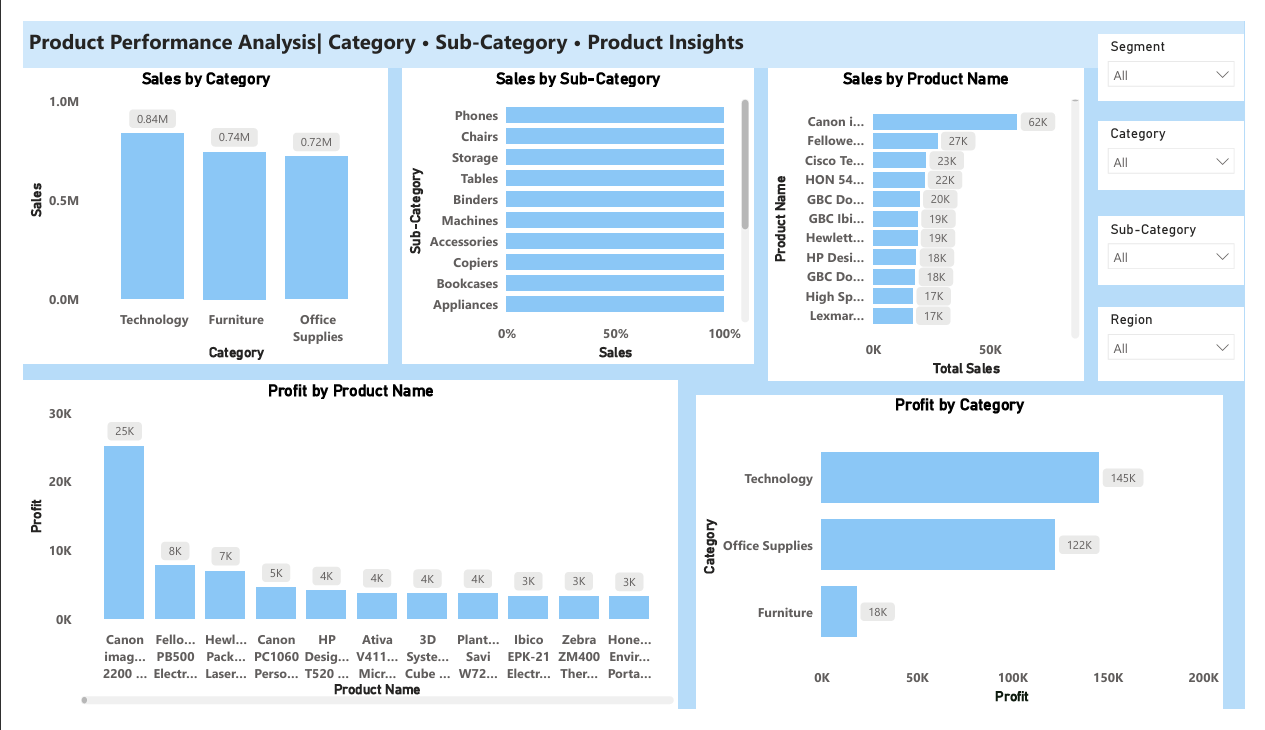

This screenshot's page, from the dashboard's own definition file:
{"tool":"powerbi","page":{"name":"Product Performance","canvas":[1280,720],"ordinal":1},"visuals":[{"type":"textbox","box":[0,0,1279.4,49.1],"z":0},{"type":"slicer","fields":{"Values":["SuperstoreSales.Category"]},"box":[1126.3,103.9,153.1,71.8],"z":1000},{"type":"slicer","fields":{"Values":["SuperstoreSales.Sub-Category"]},"box":[1126.3,204.1,153.1,71.8],"z":2000},{"type":"slicer","fields":{"Values":["SuperstoreSales.Region"]},"box":[1126.3,298.6,153.1,77.5],"z":3000},{"type":"slicer","fields":{"Values":["SuperstoreSales.Segment"]},"box":[1126.3,13.2,153.1,69.9],"z":4000},{"type":"clusteredBarChart","title":"Profit by Category","fields":{"Category":["SuperstoreSales.Category"],"Y":["SuperstoreSales.Total Profit"]},"box":[704.9,391.2,551.8,328.8],"z":5000},{"type":"clusteredColumnChart","title":"Sales by Category","fields":{"Category":["SuperstoreSales.Category"],"Y":["SuperstoreSales.Total Sales"]},"box":[0,49.1,381.7,309.9],"z":6000},{"type":"hundredPercentStackedBarChart","title":"Sales by Sub-Category","fields":{"Category":["SuperstoreSales.Sub-Category"],"Y":["SuperstoreSales.Total Sales"]},"box":[396.9,49.1,368.5,309.9],"z":7000},{"type":"columnChart","title":"Profit by Product Name","fields":{"Category":["SuperstoreSales.Product Name"],"Y":["SuperstoreSales.Total Profit"]},"box":[0,376.1,686,343.9],"z":8000},{"type":"clusteredBarChart","title":"Sales by Product Name","fields":{"Category":["SuperstoreSales.Product Name"],"Y":["SuperstoreSales.Total Sales"]},"box":[780.5,49.1,330.7,326.9],"z":9000}]}

Visuals, with their boxes in screenshot pixels (x1, y1, x2, y2), scaled from the page's 1280x720 canvas onto the 1265x730 screenshot:
textbox: 0, 0, 1264, 50
slicer - SuperstoreSales.Category: 1113, 105, 1264, 178
slicer - SuperstoreSales.Sub-Category: 1113, 207, 1264, 280
slicer - SuperstoreSales.Region: 1113, 303, 1264, 381
slicer - SuperstoreSales.Segment: 1113, 13, 1264, 84
"Profit by Category" clusteredBarChart: 697, 397, 1242, 729
"Sales by Category" clusteredColumnChart: 0, 50, 377, 364
"Sales by Sub-Category" hundredPercentStackedBarChart: 392, 50, 756, 364
"Profit by Product Name" columnChart: 0, 381, 678, 729
"Sales by Product Name" clusteredBarChart: 771, 50, 1098, 381
